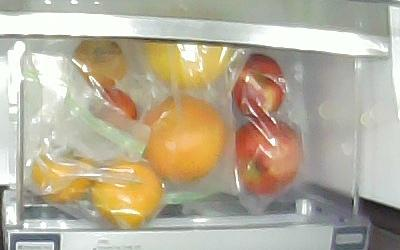apple_vinyl: (235, 119, 302, 195), (232, 54, 286, 118)
grapefruit_vinyl: (139, 95, 226, 184), (139, 41, 234, 89)
persimmon_vinyl: (92, 161, 164, 228), (33, 146, 98, 202)
prune_vinyl: (72, 40, 127, 90), (89, 89, 138, 131)
